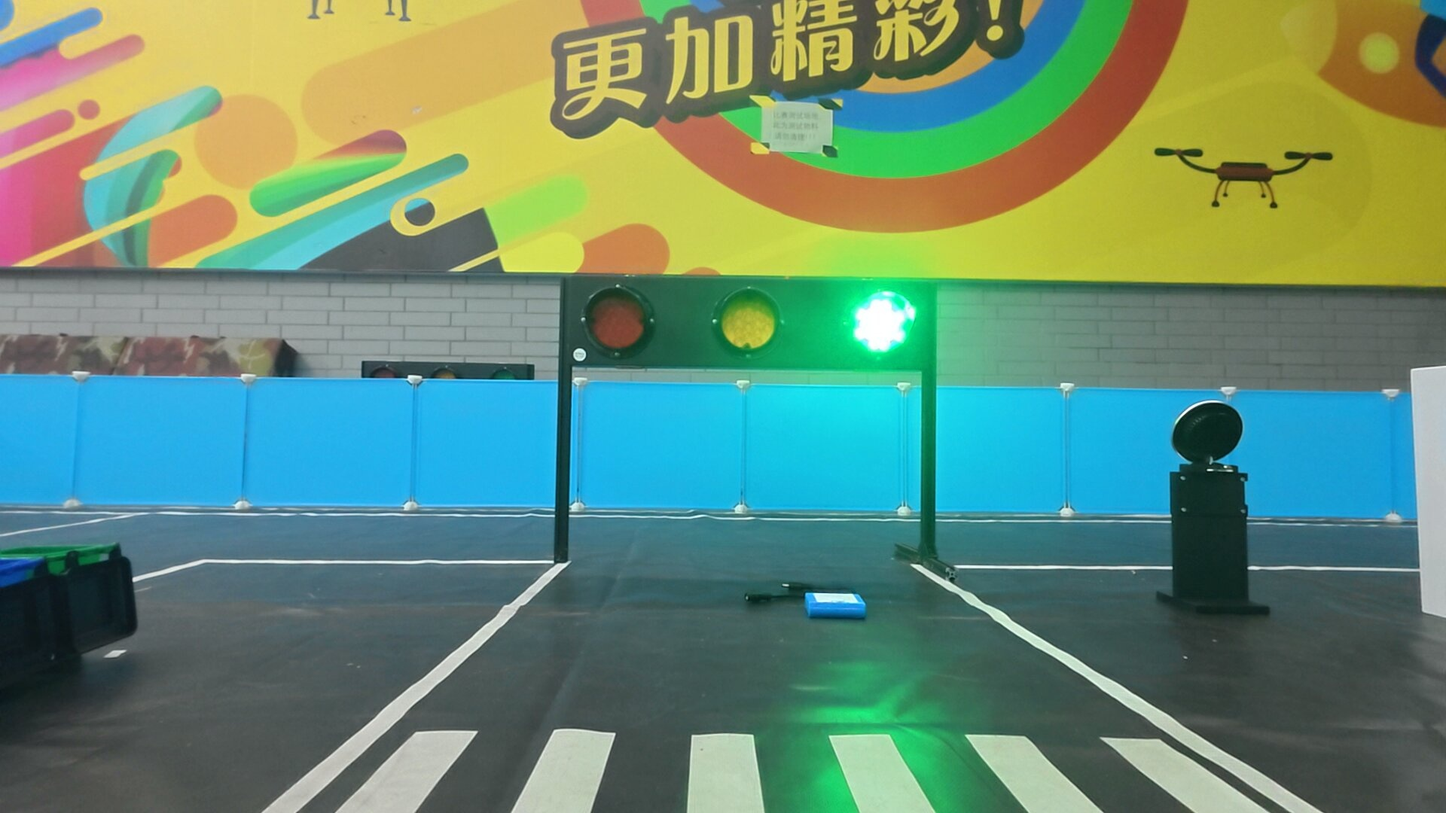go: (846, 285, 920, 362)
